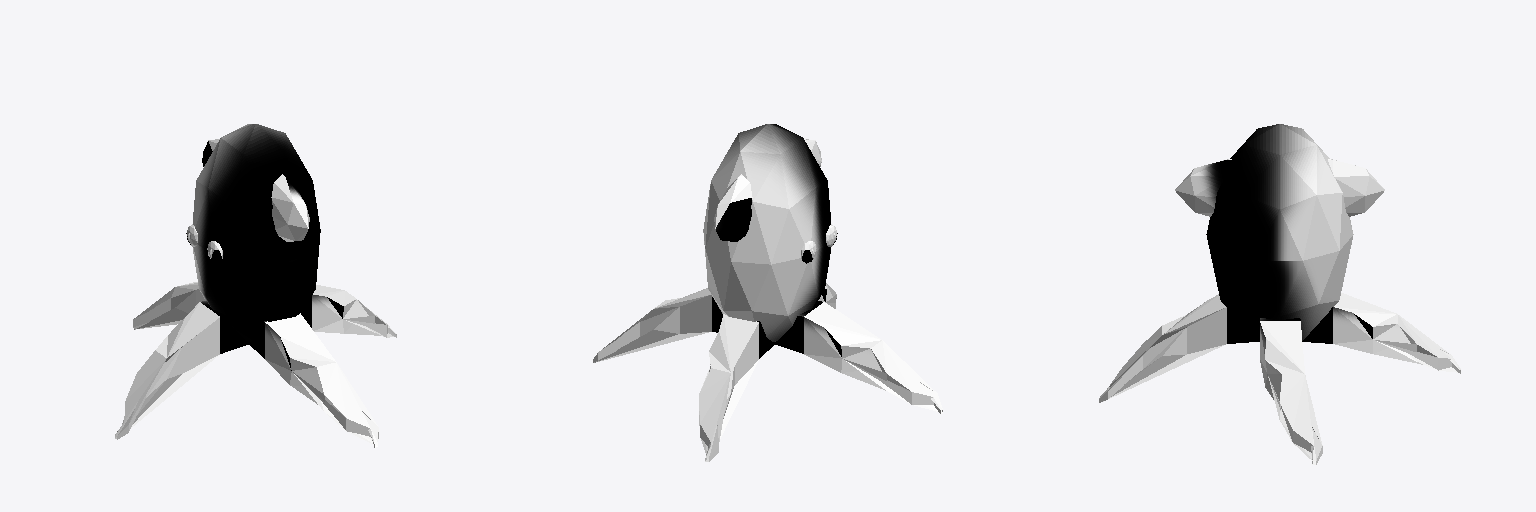
3 views of the same model, side by side, from view 1: azimuth 30°, elevation 25°; view 2: azimuth 150°, elevation 25°; view 3: azimuth 270°, elevation 25° (orthographic).
Parts seen in each view (by area): view 1: BODY_Icosphere.002, TENTICAL_Cube.001, HEAD_Icosphere.003; view 2: BODY_Icosphere.002, TENTICAL_Cube.001, HEAD_Icosphere.003; view 3: BODY_Icosphere.002, TENTICAL_Cube.001, HEAD_Icosphere.003.
Part boxes in pixels (x1,y1,x2,y2): BODY_Icosphere.002: (193,124,320,341); TENTICAL_Cube.001: (115,282,396,447); HEAD_Icosphere.003: (202,139,309,241); BODY_Icosphere.002: (703,124,830,341); TENTICAL_Cube.001: (593,283,942,461); HEAD_Icosphere.003: (714,139,821,241); BODY_Icosphere.002: (1206,124,1353,340); TENTICAL_Cube.001: (1099,293,1460,464); HEAD_Icosphere.003: (1175,159,1384,216).
Size of the model in its own units: 1.48 by 1.19 by 1.48.
1 materials, 1 textured.